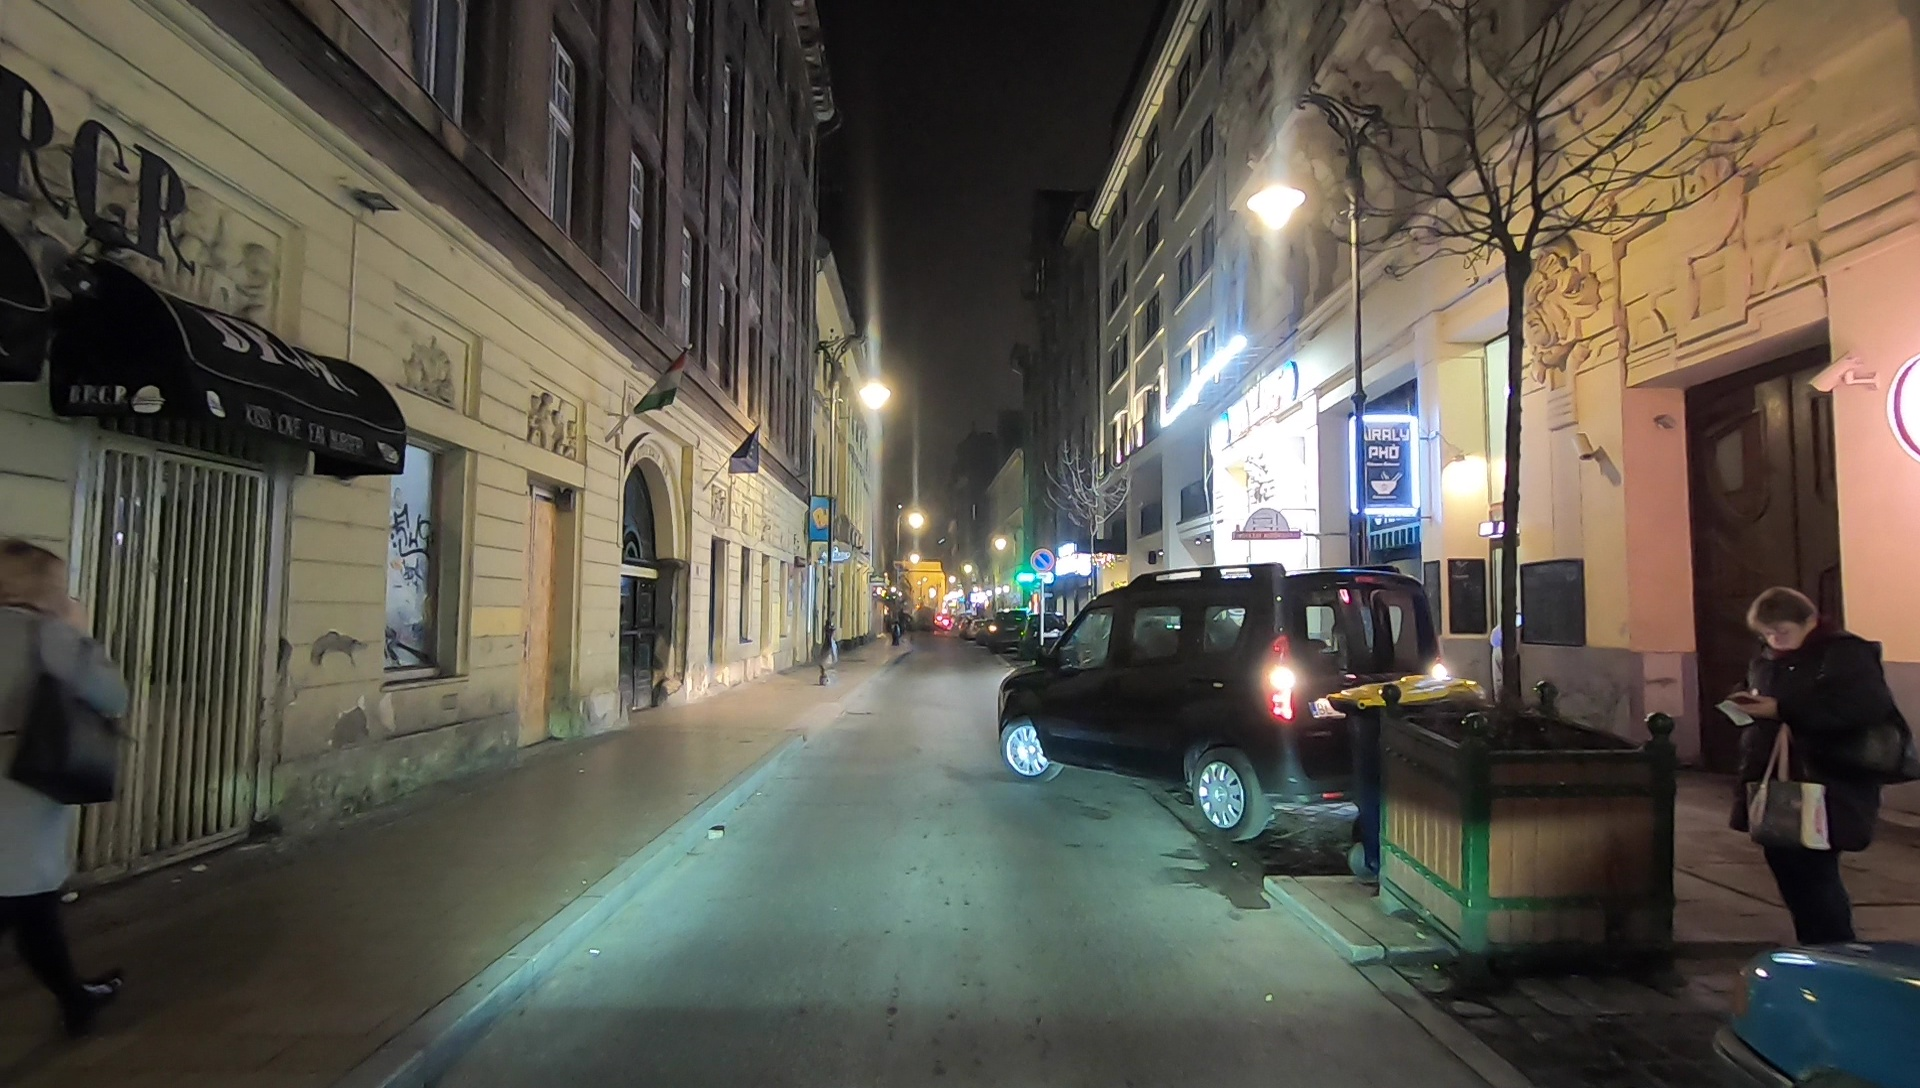person: (1, 545, 132, 1032), (1730, 591, 1899, 947)
